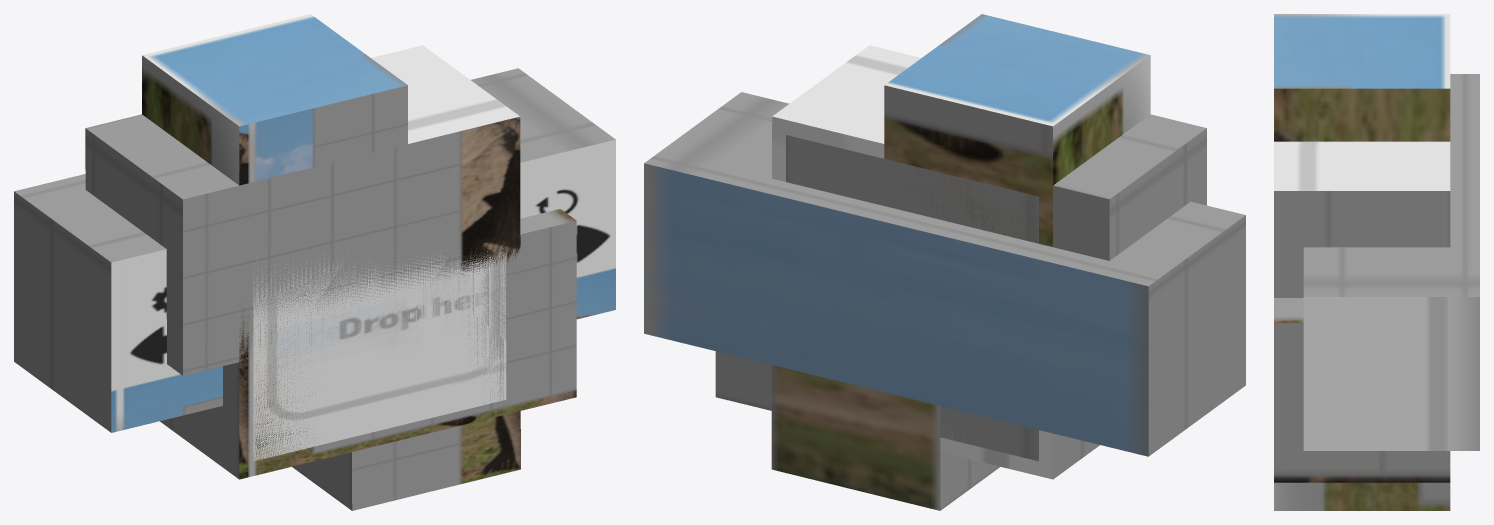
The model's file is puzzle8.fbx.
3 renders of one model, left to right at view 1: azimuth 30°, elevation 25°; view 2: azimuth 150°, elevation 25°; view 3: azimuth 270°, elevation 25°, orthographic. The views are drawn at different scales.
Visible parts, largest first — view 1: Cube.003, Cube.002, Cube.004, Cube, Cube.001; view 2: Cube.004, Cube.003, Cube.002, Cube, Cube.001; view 3: Cube.004, Cube.002, Cube.003.
Boxes of the visible parts, <box> form: Cube.003: <box>85,45,520,510</box>; Cube.002: <box>142,14,576,479</box>; Cube.004: <box>14,68,615,432</box>; Cube: <box>253,255,506,461</box>; Cube.001: <box>253,243,506,397</box>; Cube.004: <box>644,92,1245,456</box>; Cube.003: <box>771,45,1206,510</box>; Cube.002: <box>715,14,1150,479</box>; Cube: <box>786,135,1038,448</box>; Cube.001: <box>802,142,1038,461</box>; Cube.004: <box>1303,74,1479,450</box>; Cube.002: <box>1274,14,1450,482</box>; Cube.003: <box>1274,141,1450,510</box>.
Bounding box in the file's own units: 598 × 467 × 233.
